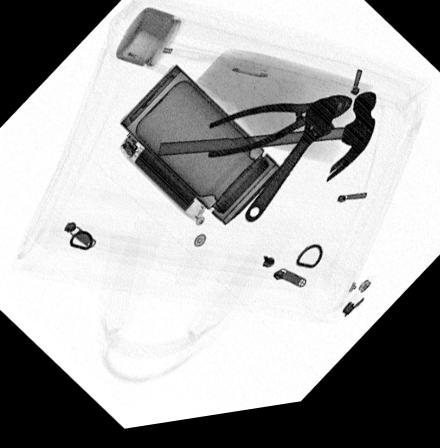Hammer: (157, 100, 375, 190)
Pliers: (205, 102, 353, 166)
Powerbank: (118, 130, 208, 229)
Wrench: (244, 105, 339, 231)
